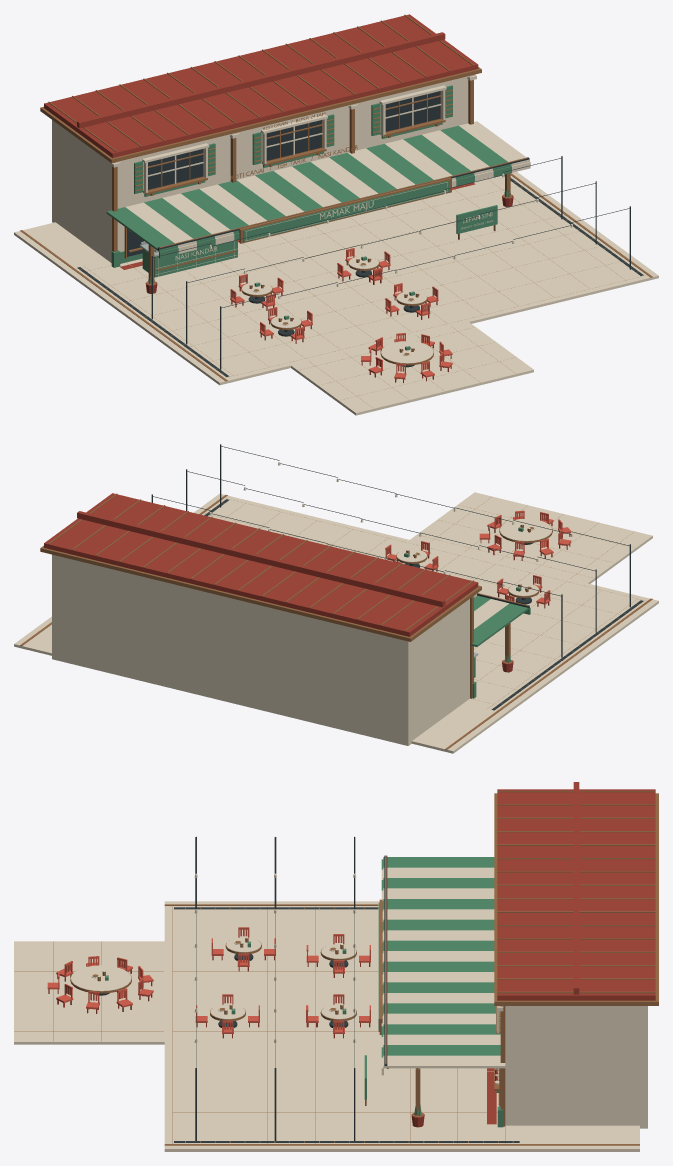
File: LM_ENV_MamakMaju.glb
The picture shows the model from 3 angles, top to bottom: view 1: azimuth 30°, elevation 25°; view 2: azimuth 150°, elevation 25°; view 3: azimuth 270°, elevation 25°; orthographic projection. The views are drawn at different scales.
Visible parts, largest first — view 1: LM_ENV_MamakMaju, LM_ENV_MamakMaju_Festoon; view 2: LM_ENV_MamakMaju, LM_ENV_MamakMaju_Festoon; view 3: LM_ENV_MamakMaju, LM_ENV_MamakMaju_Festoon.
Part boxes in pixels (x1,y1,x2,y2): LM_ENV_MamakMaju: (14,14,658,415); LM_ENV_MamakMaju_Festoon: (151,156,630,369); LM_ENV_MamakMaju: (14,492,658,753); LM_ENV_MamakMaju_Festoon: (151,444,630,657); LM_ENV_MamakMaju: (14,782,658,1151); LM_ENV_MamakMaju_Festoon: (194,836,356,1140).
Size of the model in its own units: 37 by 9.95 by 40.7.
